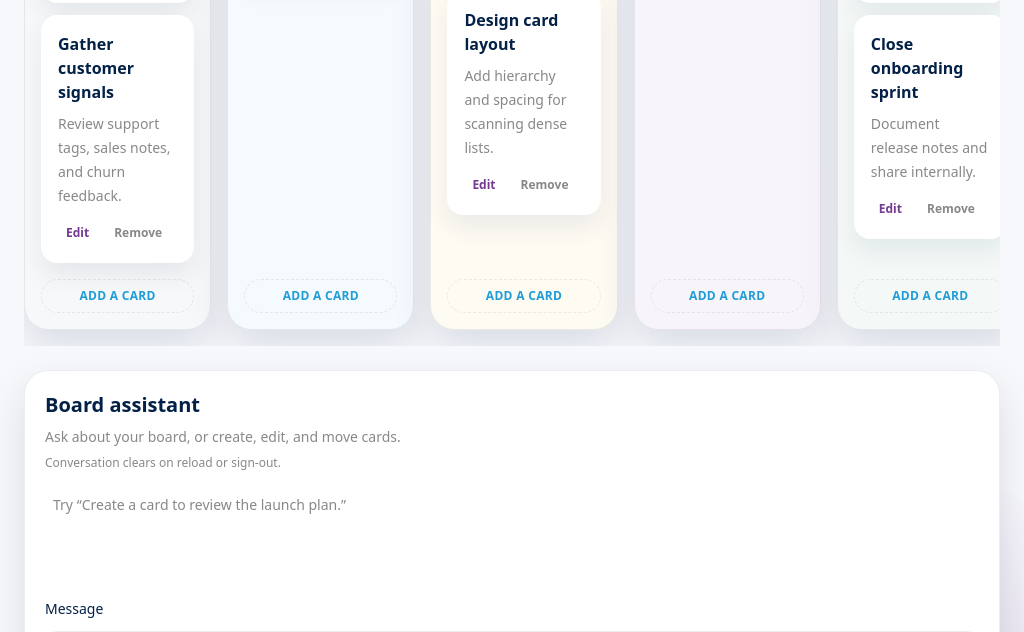
Test case: persistent KanbanBoard › adds and deletes using server IDs and the latest revision
(page scrolled)
Step 1. Click the 1st button "Add a card" → (118, 296), box [41,279,194,313]
(page scrolled)
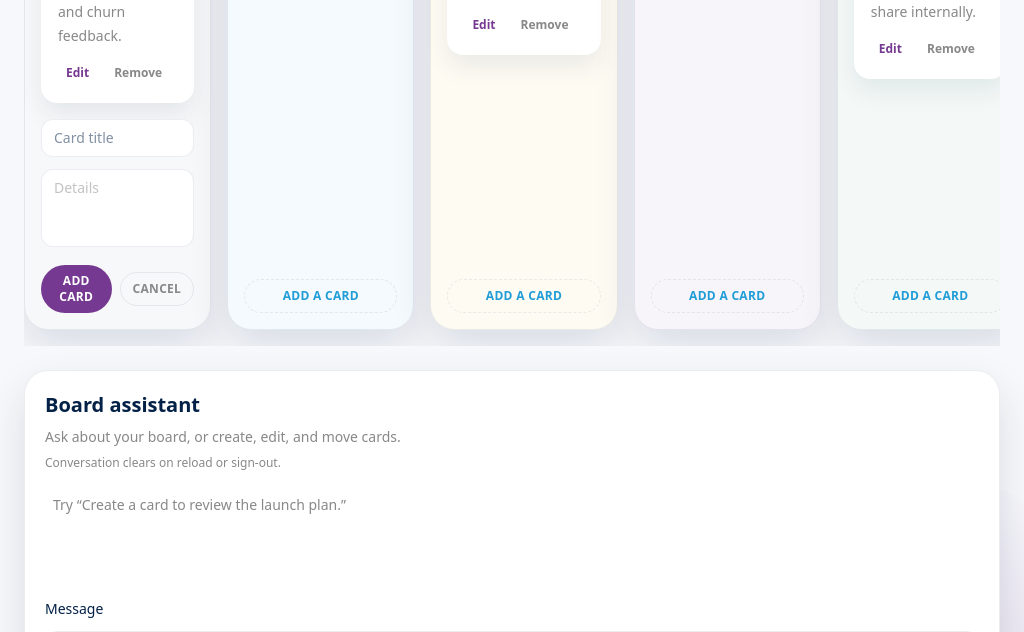
Step 2. Type "New card" into the field labelled "Card title" → (118, 138), box [41,119,194,157]
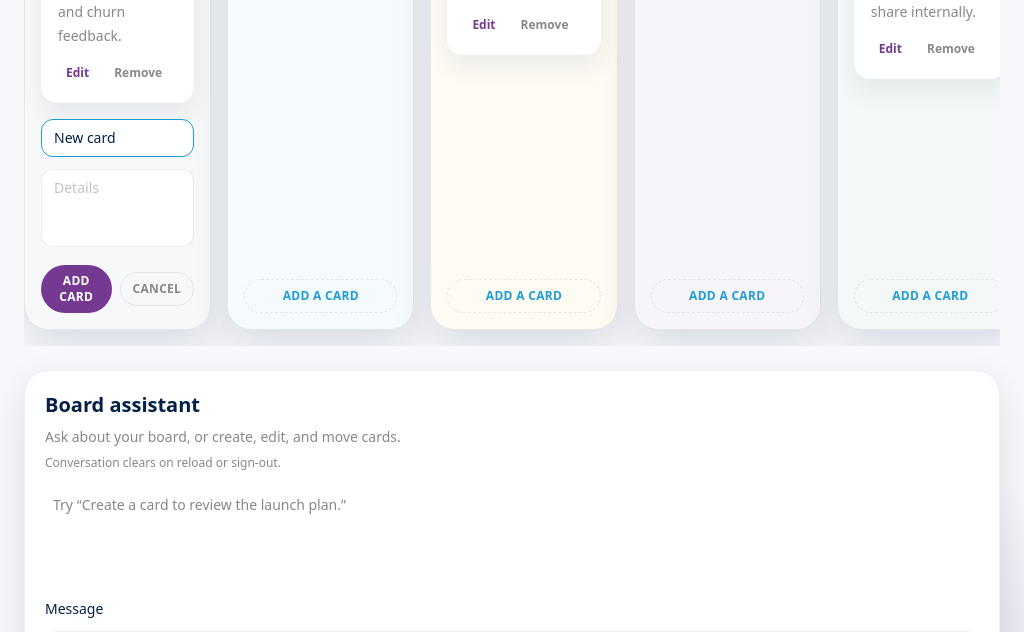
Step 3. Click the button "Add card" → (76, 289), box [41,265,112,313]
(page scrolled)
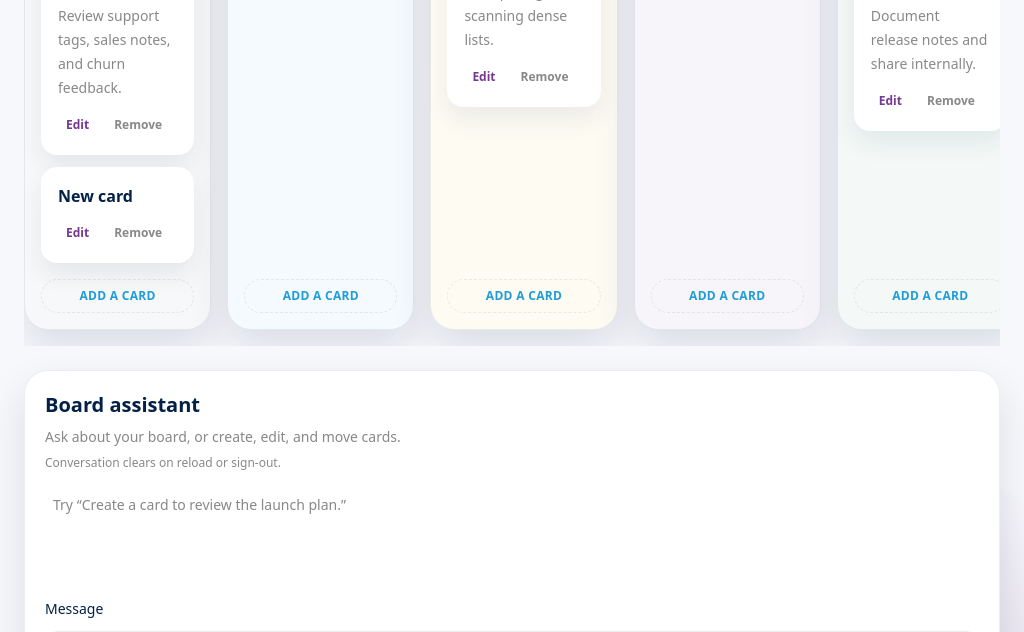
Check: the element with test id "card-server" is shown, box [41,167,194,263]
Step 4. Click the button with aria-label "Delete New card" → (138, 233), box [105,220,171,246]
(page scrolled)
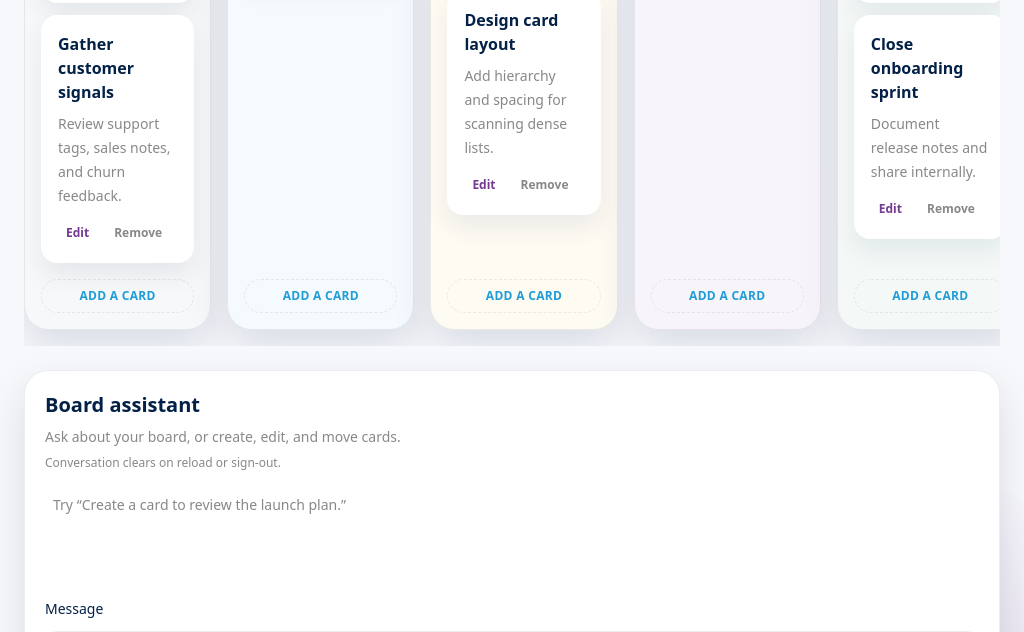
Check: the element with test id "card-server" is gone
